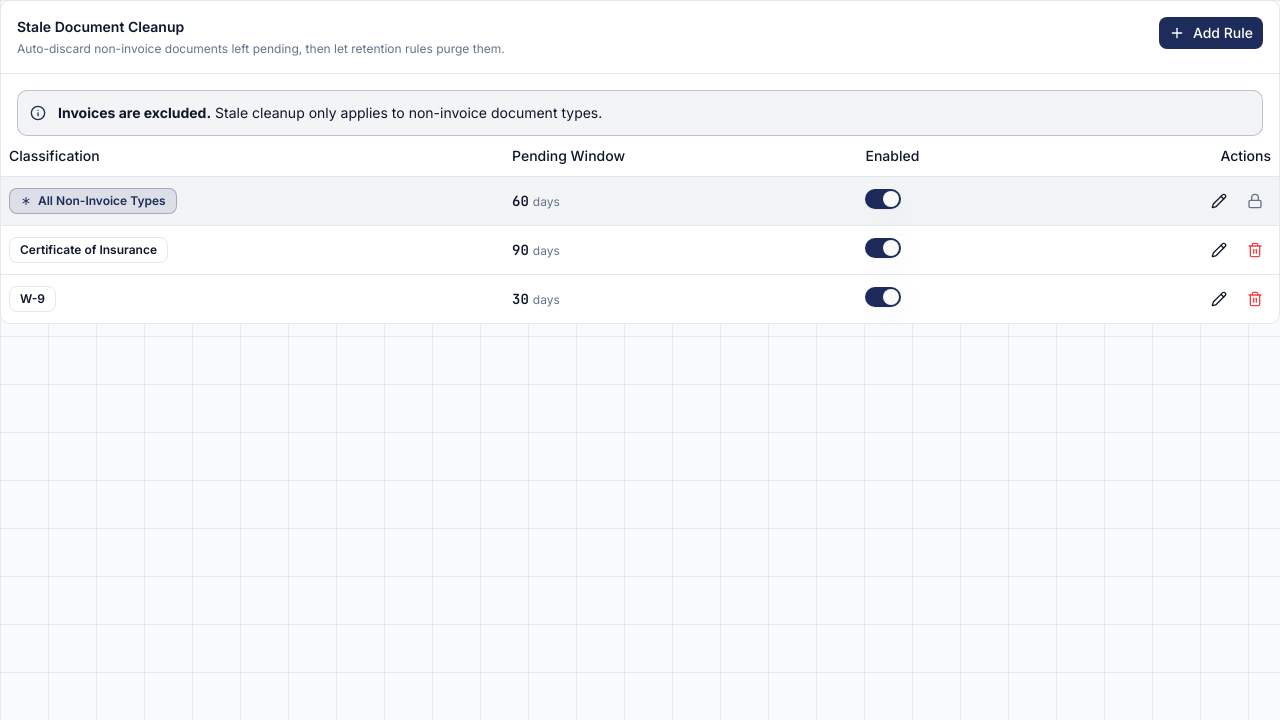
StaleCleanupSection › clamps locally added stale cleanup days to one
Click the button "Add Rule" at point(1211, 33), box [1159,17,1263,49]
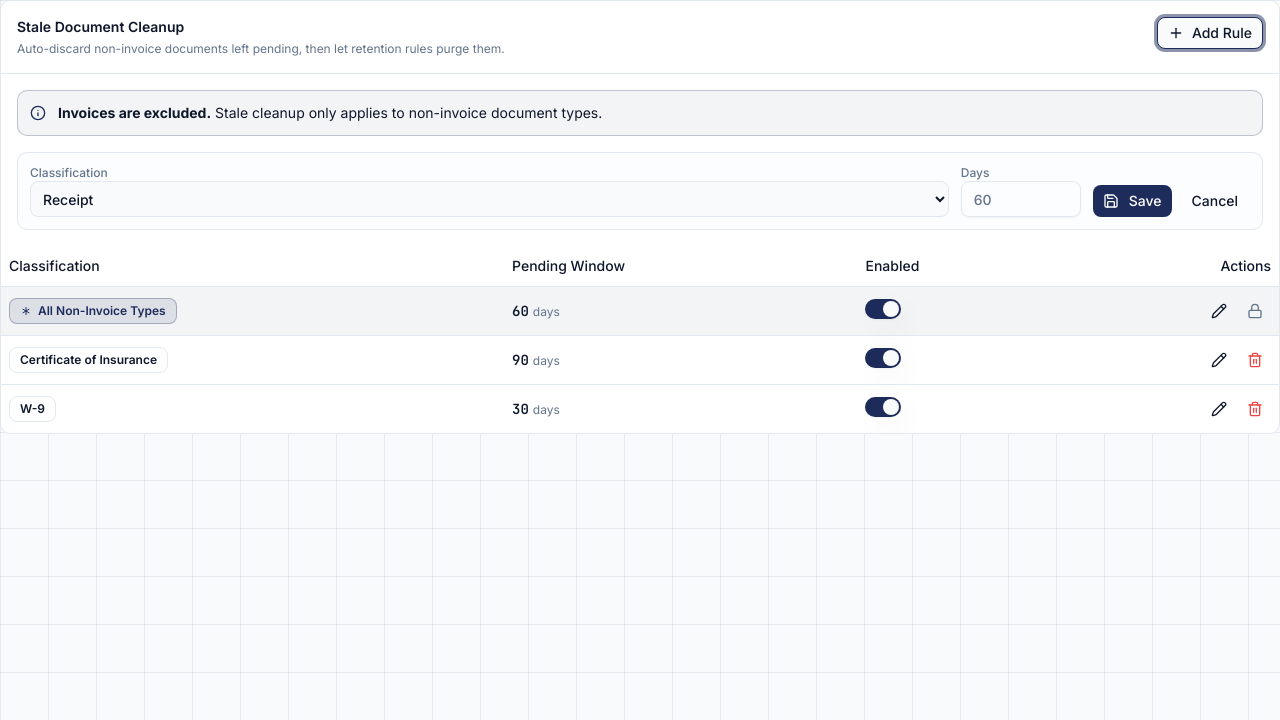
Replace the text in the number field with "0" at point(1021, 199), box [961,181,1081,217]
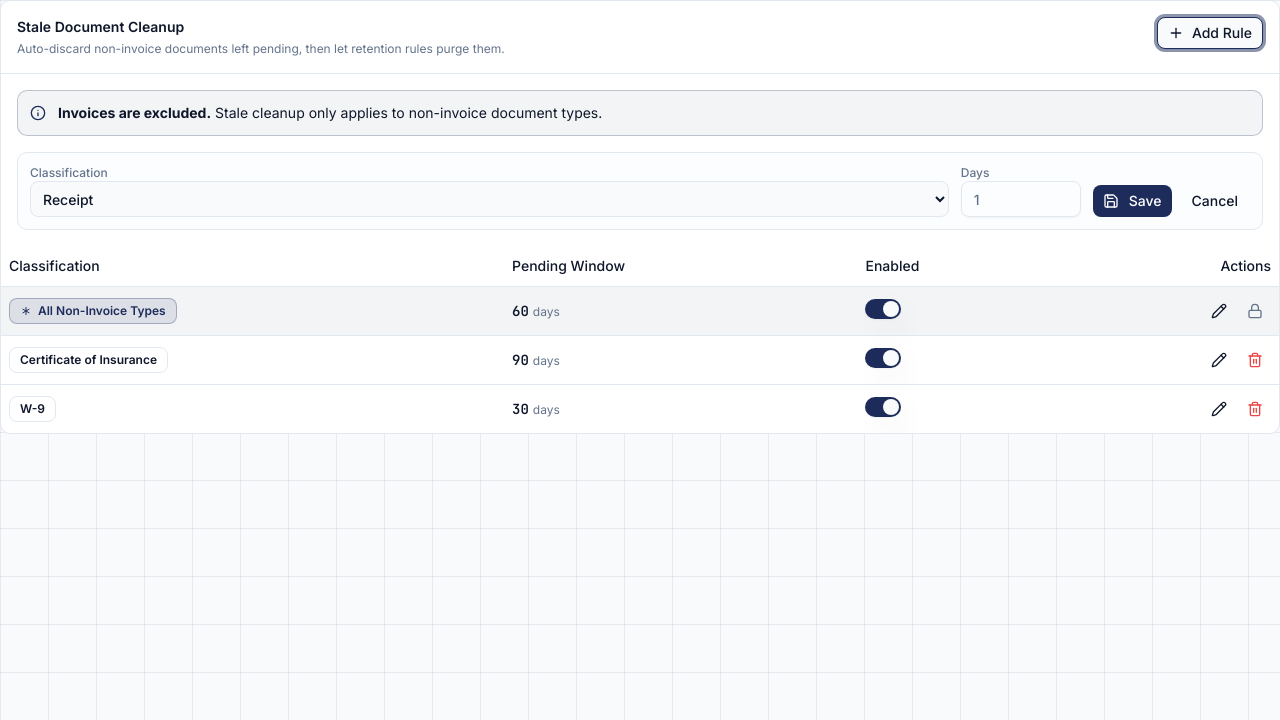
Click the button "Save" at point(1132, 201), box [1093,185,1172,217]
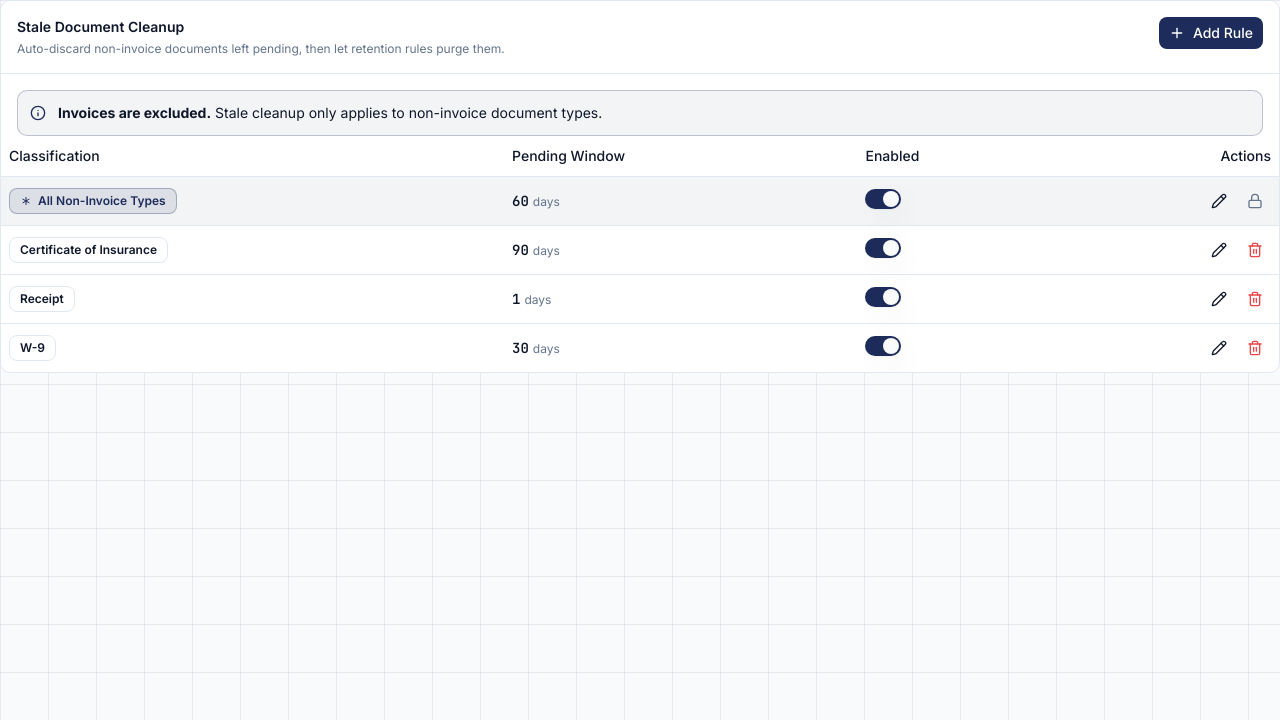
Result: the text "Receipt" is shown at [9,286,75,312]
Result: the text "1" is shown at [512,290,520,308]
